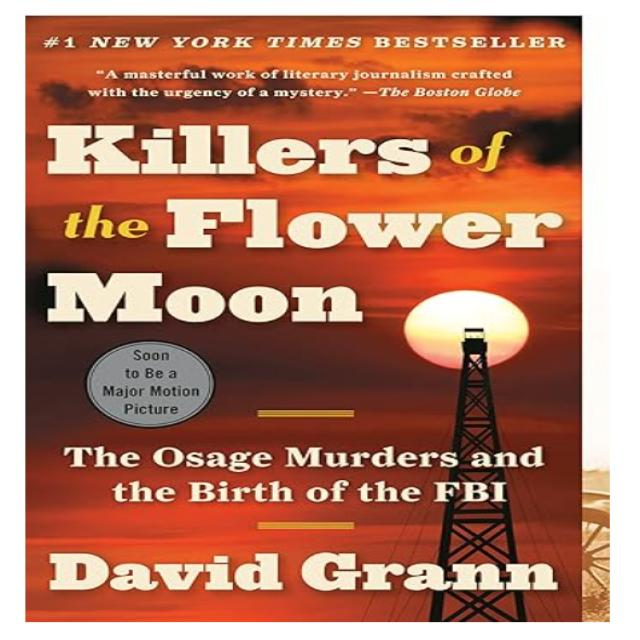titles-or-authors: (36, 116, 568, 330), (40, 542, 569, 606)
